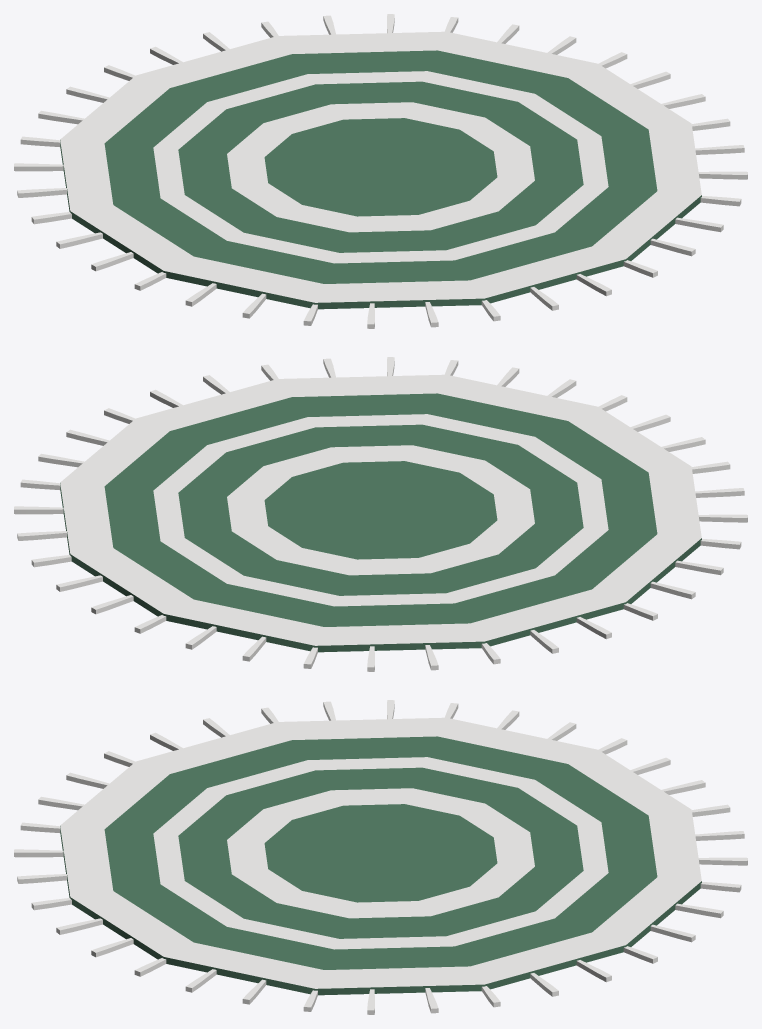
File: Carpet_1__1_.glb
3 renders of one model, top to bottom at view 1: azimuth 30°, elevation 25°; view 2: azimuth 150°, elevation 25°; view 3: azimuth 270°, elevation 25°, orthographic.
Parts seen in each view (by area): view 1: Carpet_1__1_; view 2: Carpet_1__1_; view 3: Carpet_1__1_.
Boxes of the visible parts, x1,y1,x2,y2 form: Carpet_1__1_: (14, 14, 747, 328); Carpet_1__1_: (14, 357, 747, 671); Carpet_1__1_: (14, 700, 747, 1014).
Bounding box in the file's own units: 7.33 × 0.0717 × 7.33.
1 material, 1 textured.
